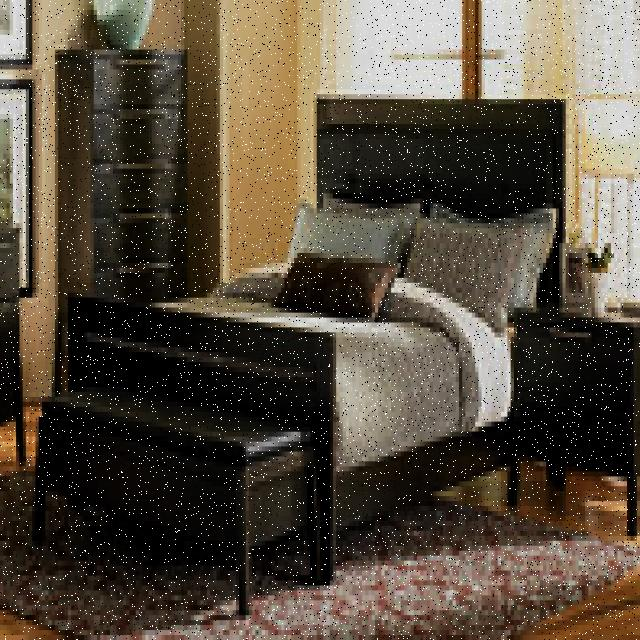bed: (75, 92, 563, 412)
